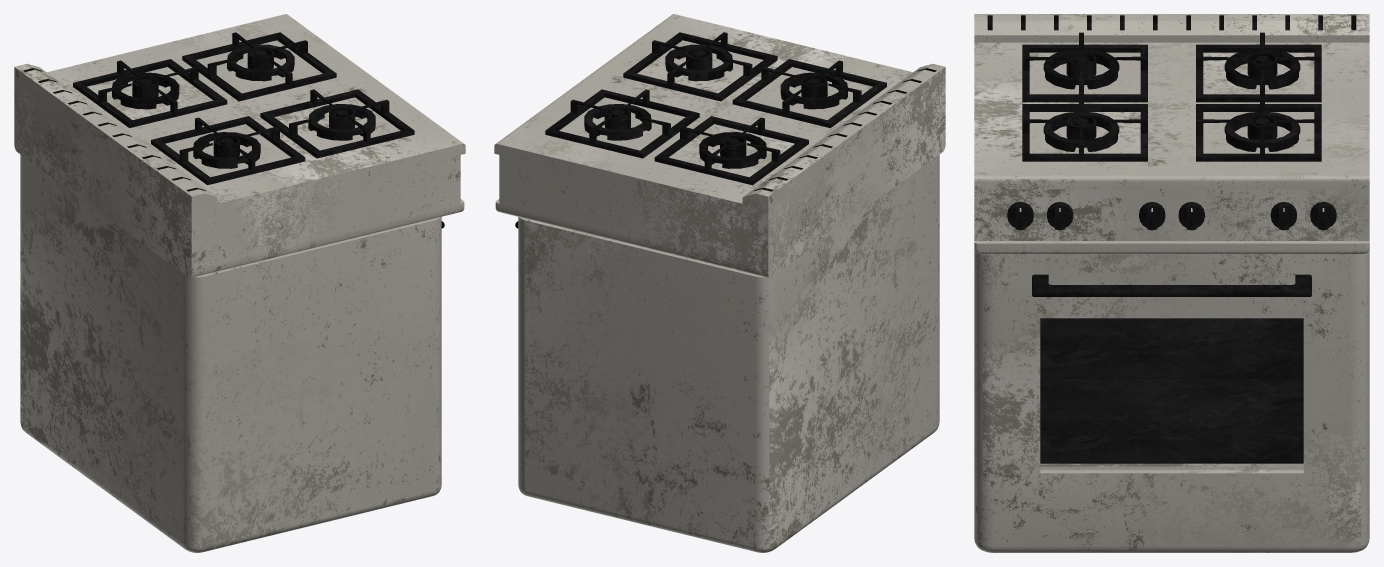
File: stove.glb
3 renders of one model, left to right at view 1: azimuth 30°, elevation 25°; view 2: azimuth 150°, elevation 25°; view 3: azimuth 270°, elevation 25°, orthographic. The views are drawn at different scales.
Visible parts, largest first — view 1: stove_2, stove_1, stove_door; view 2: stove_2, stove_1, stove_door; view 3: stove_door, stove_1, baking_tray_3, baking_tray_2, stove_2, burner_1, burner_3, burner_4, burner_6, burner_2, burner_5.
Part boxes in pixels (x1,y1,x2,y2): stove_2: (20, 154, 434, 552); stove_1: (14, 14, 465, 277); stove_door: (433, 217, 444, 495); stove_2: (525, 154, 939, 552); stove_1: (494, 14, 945, 277); stove_door: (515, 217, 526, 495); stove_door: (974, 248, 1369, 552); stove_1: (974, 14, 1369, 254); baking_tray_3: (1040, 378, 1303, 463); baking_tray_2: (1040, 318, 1303, 378); stove_2: (1040, 463, 1303, 466); burner_1: (1007, 202, 1033, 230); burner_3: (1139, 202, 1165, 230); burner_4: (1178, 202, 1204, 230); burner_6: (1310, 202, 1336, 230); burner_2: (1047, 202, 1073, 230); burner_5: (1270, 202, 1296, 230).
Bounding box in the file's own units: 1.09 × 1.36 × 1.2.
Materials: 4 (4 with a texture image).
